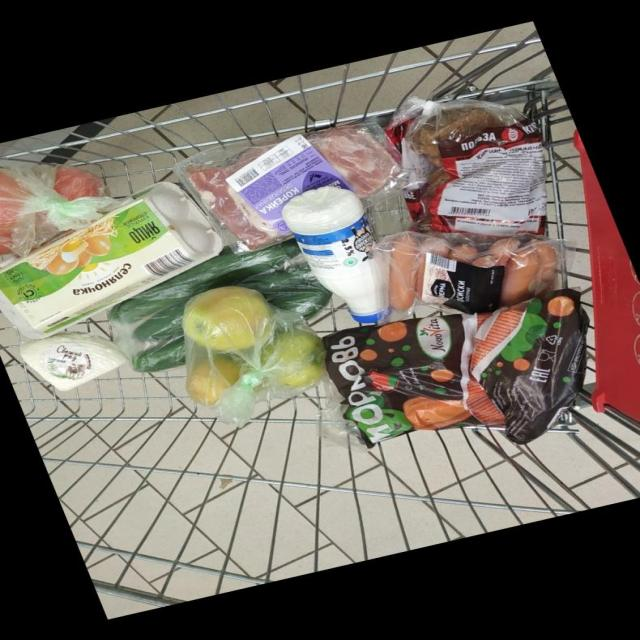apple: (141, 197, 457, 581), (101, 179, 353, 524), (101, 211, 324, 600)
carrot: (263, 158, 640, 468)
cheese: (59, 184, 185, 545)
cucumber: (165, 143, 478, 431), (127, 136, 363, 419), (92, 169, 272, 504), (98, 144, 234, 470), (58, 163, 195, 484)
egg: (4, 164, 39, 502)
milk: (149, 134, 493, 432)
tomato: (49, 100, 155, 292), (3, 120, 34, 315)
